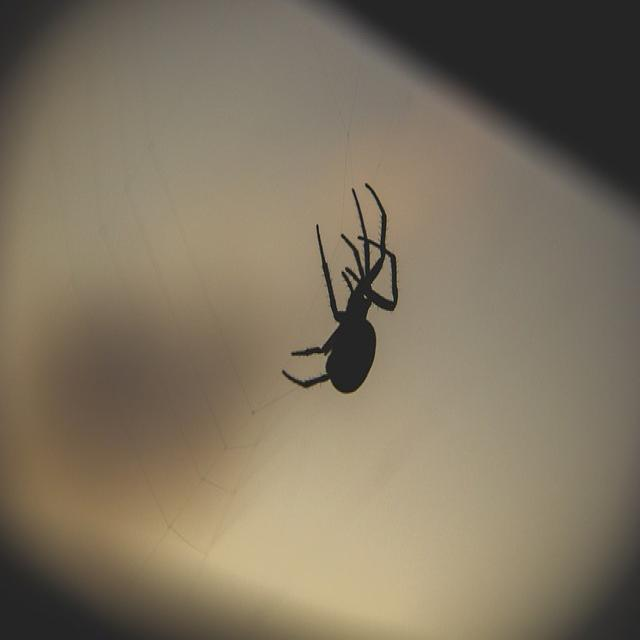spyder: (282, 184, 398, 392)
